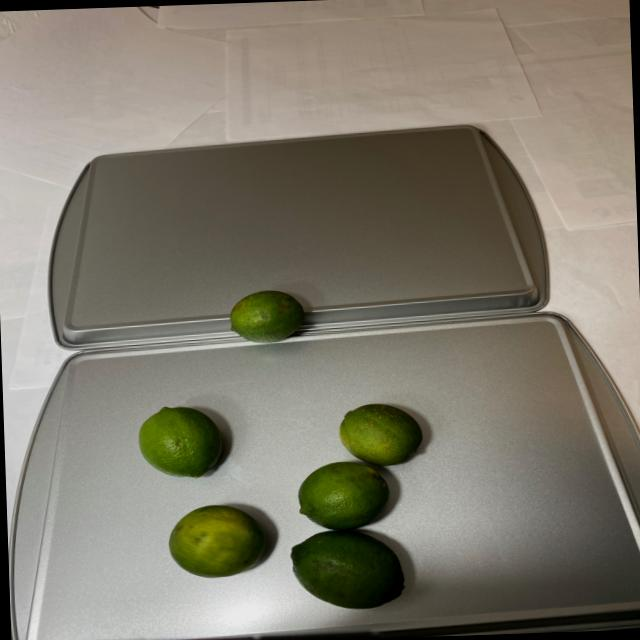lemon: (130, 392, 452, 616), (226, 288, 312, 349)
